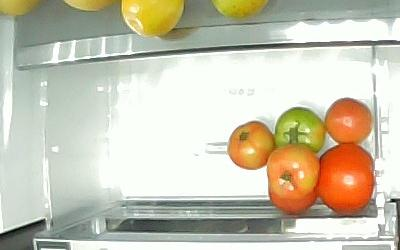tomato: (313, 141, 375, 214), (266, 143, 320, 214), (273, 105, 326, 154), (226, 120, 275, 170), (323, 96, 372, 143)
